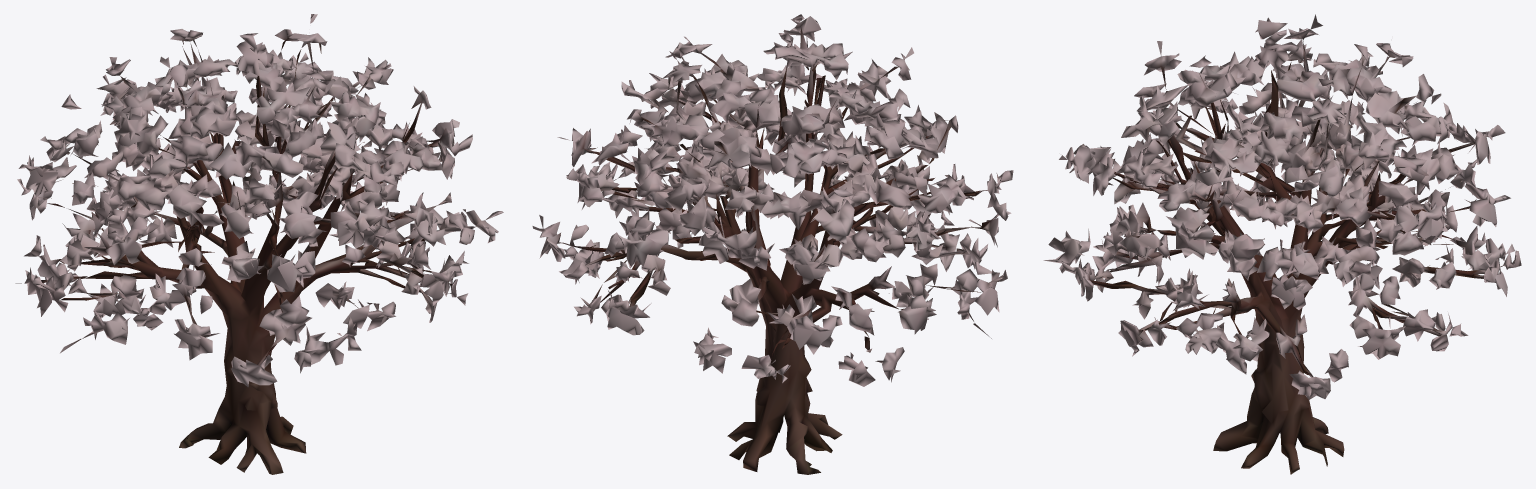
The model's file is ipe.glb.
3 renders of one model, left to right at view 1: azimuth 30°, elevation 25°; view 2: azimuth 150°, elevation 25°; view 3: azimuth 270°, elevation 25°, orthographic.
Size of the model in its own units: 1.1 by 0.9943 by 1.03.
